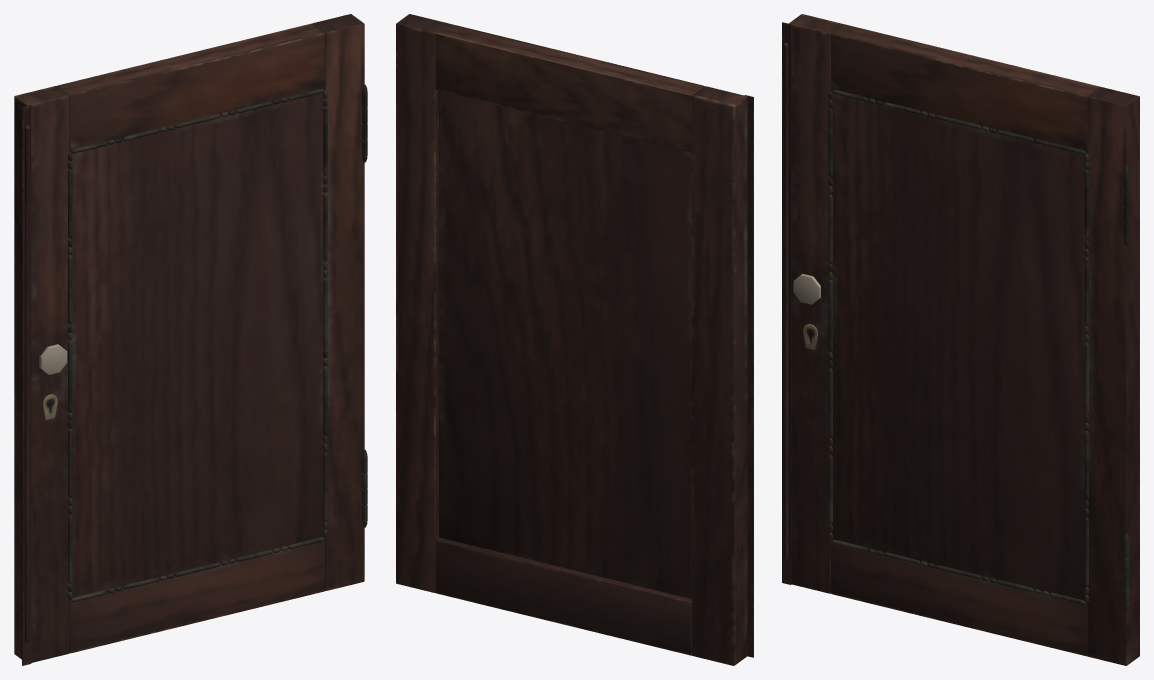
The model's file is SM_Cabinet243_doorR.fbx.
The picture shows the model from 3 angles, left to right: view 1: azimuth 30°, elevation 25°; view 2: azimuth 150°, elevation 25°; view 3: azimuth 330°, elevation 25°; orthographic projection.
Visible parts, largest first — view 1: SM_Cabinet243_doorR; view 2: SM_Cabinet243_doorR; view 3: SM_Cabinet243_doorR.
Part boxes in pixels (x1,y1,x2,y2): SM_Cabinet243_doorR: (14, 14, 367, 665); SM_Cabinet243_doorR: (396, 14, 753, 665); SM_Cabinet243_doorR: (782, 14, 1139, 665).
Bounding box in the file's own units: 36.11 × 55.79 × 3.28.
